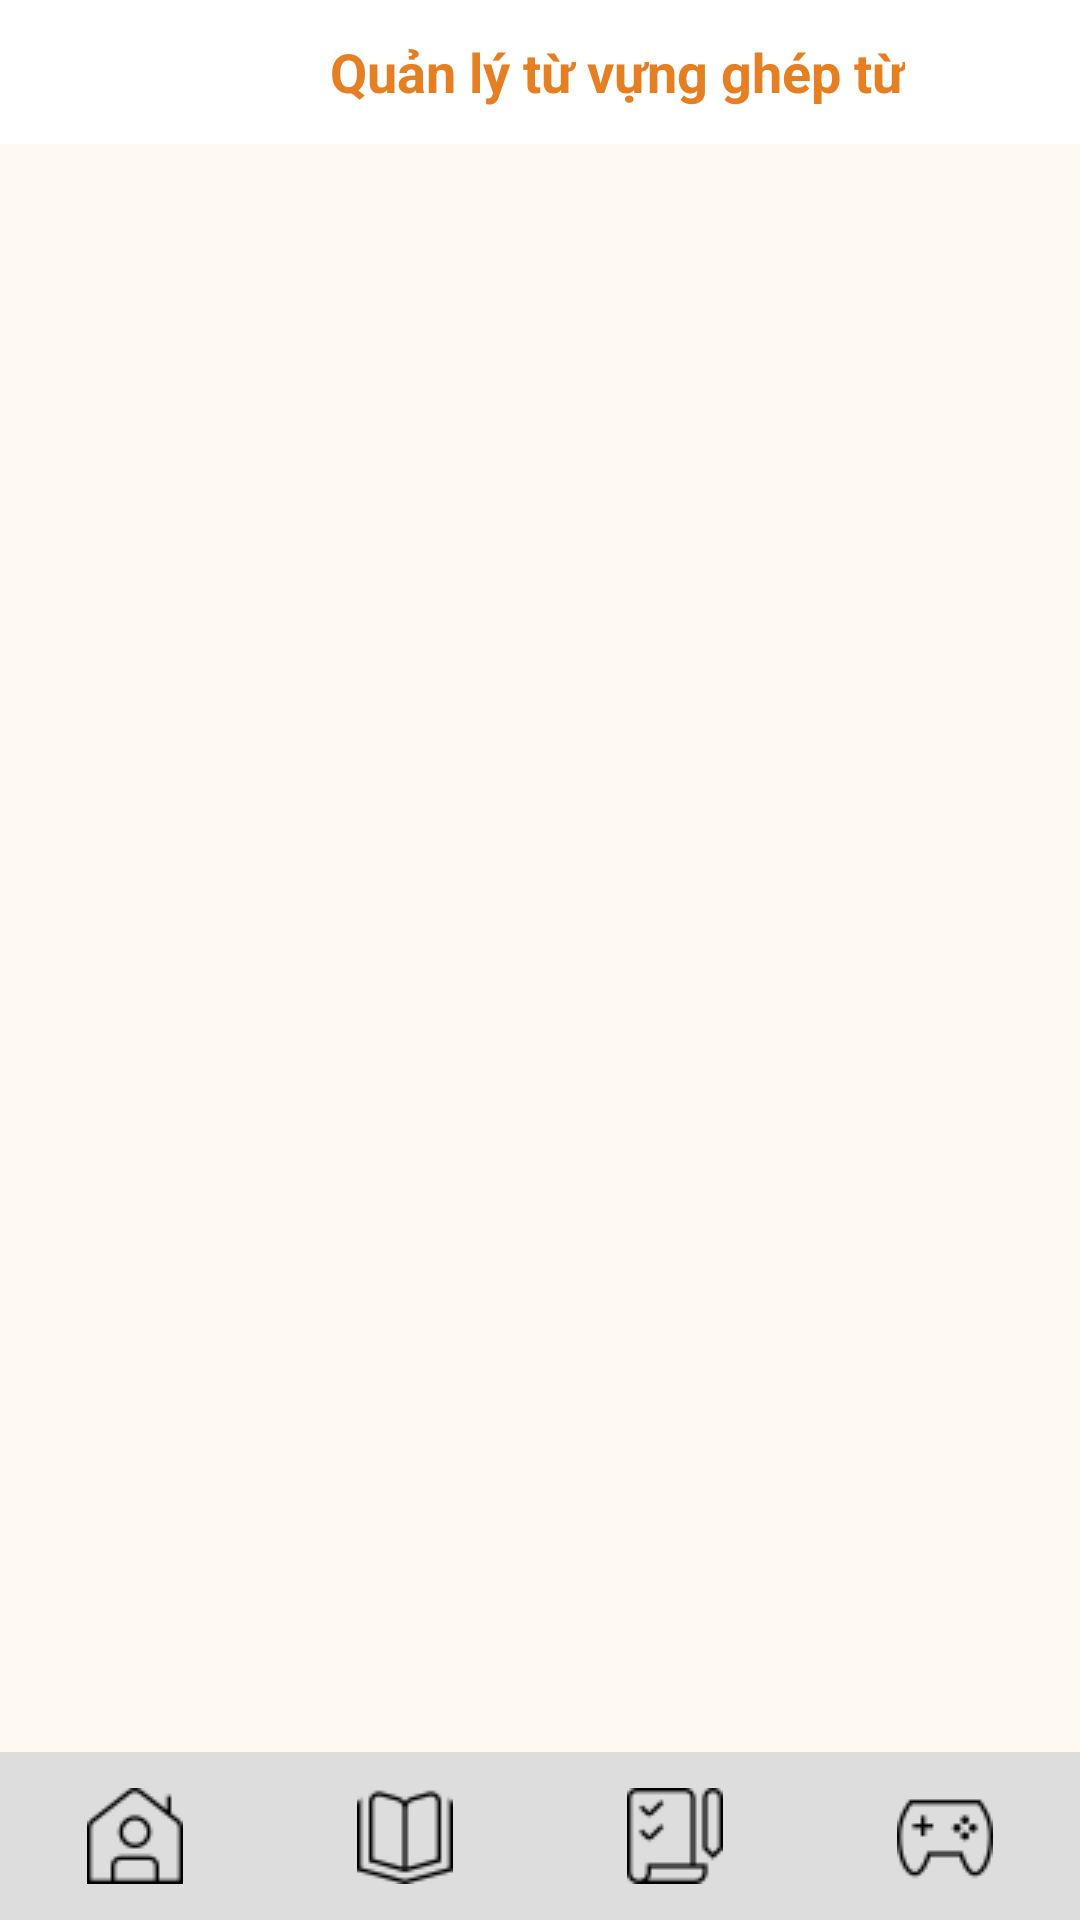

Named icons in this screenshot (1080*1920) and their centers, (x,y):
Checklist: (675,1836)
Game: (945,1838)
Home: (135,1836)
Học từ vựng: (405,1837)
